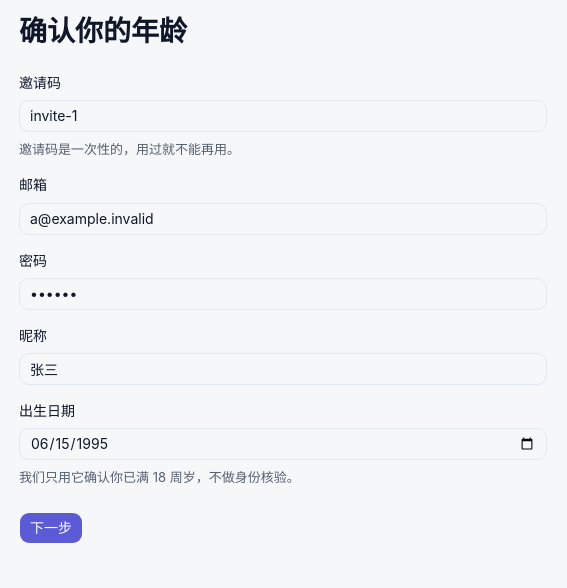
(h) 步骤 0「下一步」不禁用：点击时校验、报错、聚焦第一个出错字段、不前进 › 修正密码后再次点击「下一步」可以前进到步骤 1
The image size is (567, 588).
Click the button "下一步" at (51, 528), box [19, 512, 83, 544]
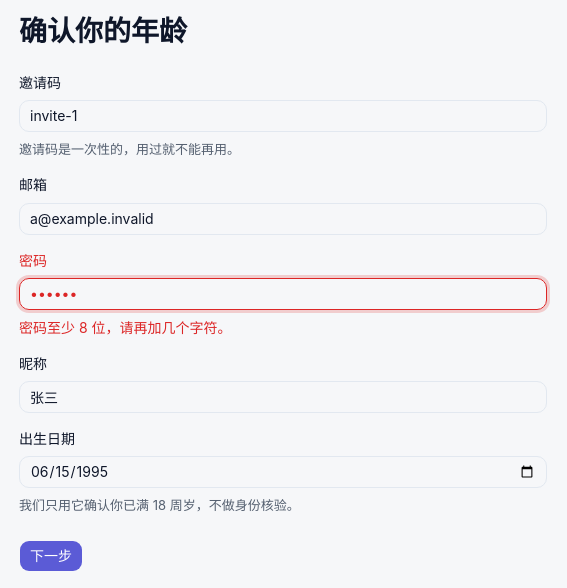
Expected: the field labelled "称呼" is not shown
Type "longenough" into the password field labelled "密码" at (283, 294), box [19, 278, 547, 310]
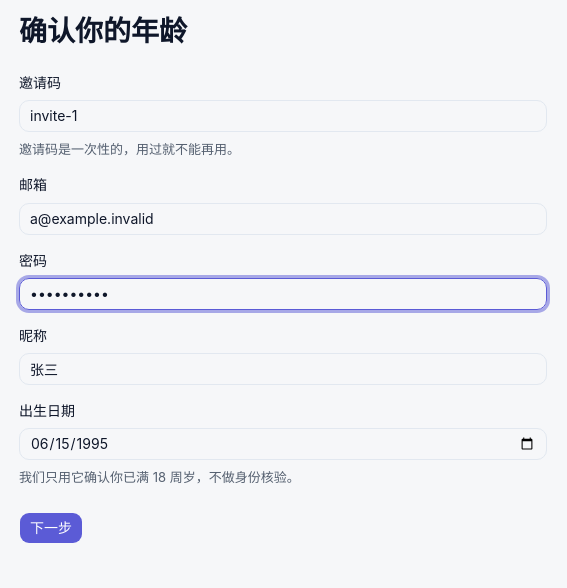
Click the button "下一步" at (51, 528), box [19, 512, 83, 544]
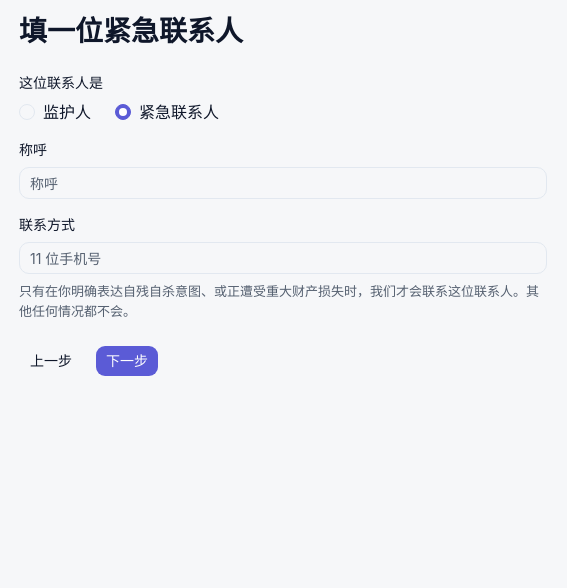
Expected: the field labelled "称呼" is shown, [19, 167, 547, 199]
